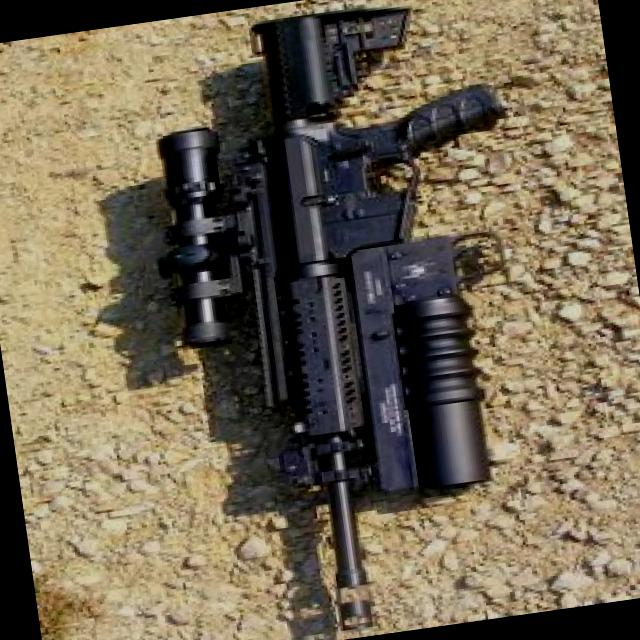long weapon: (117, 0, 552, 639)
